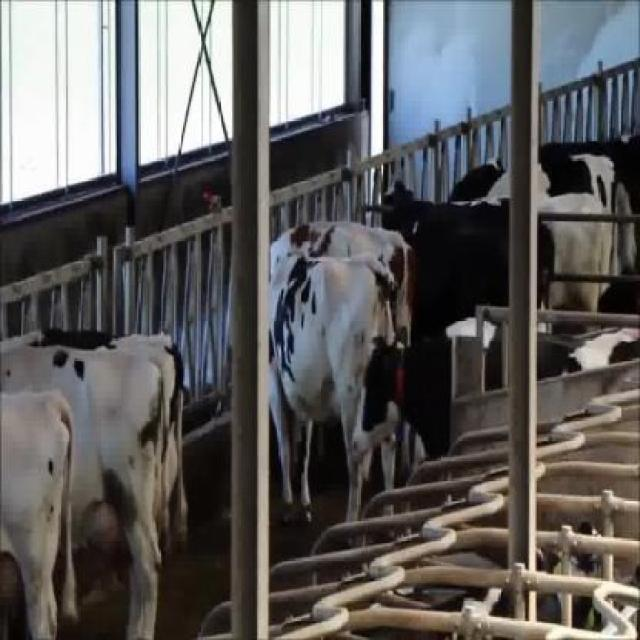Cow: (0, 342, 163, 638), (269, 254, 400, 551), (376, 180, 556, 318), (351, 311, 509, 466), (2, 386, 80, 639)
